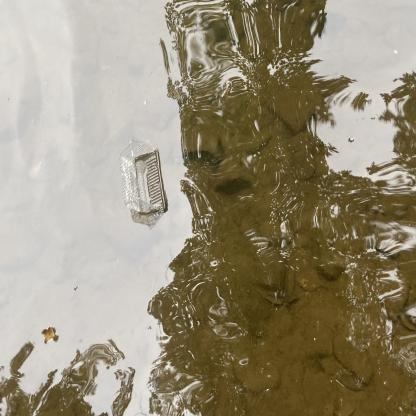trash: (115, 130, 170, 227)
